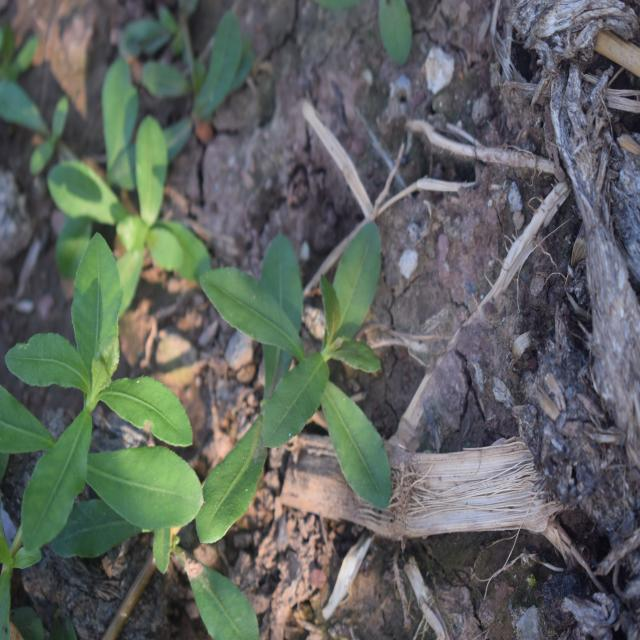Alligatorweed: (188, 212, 406, 558), (0, 224, 216, 572)
